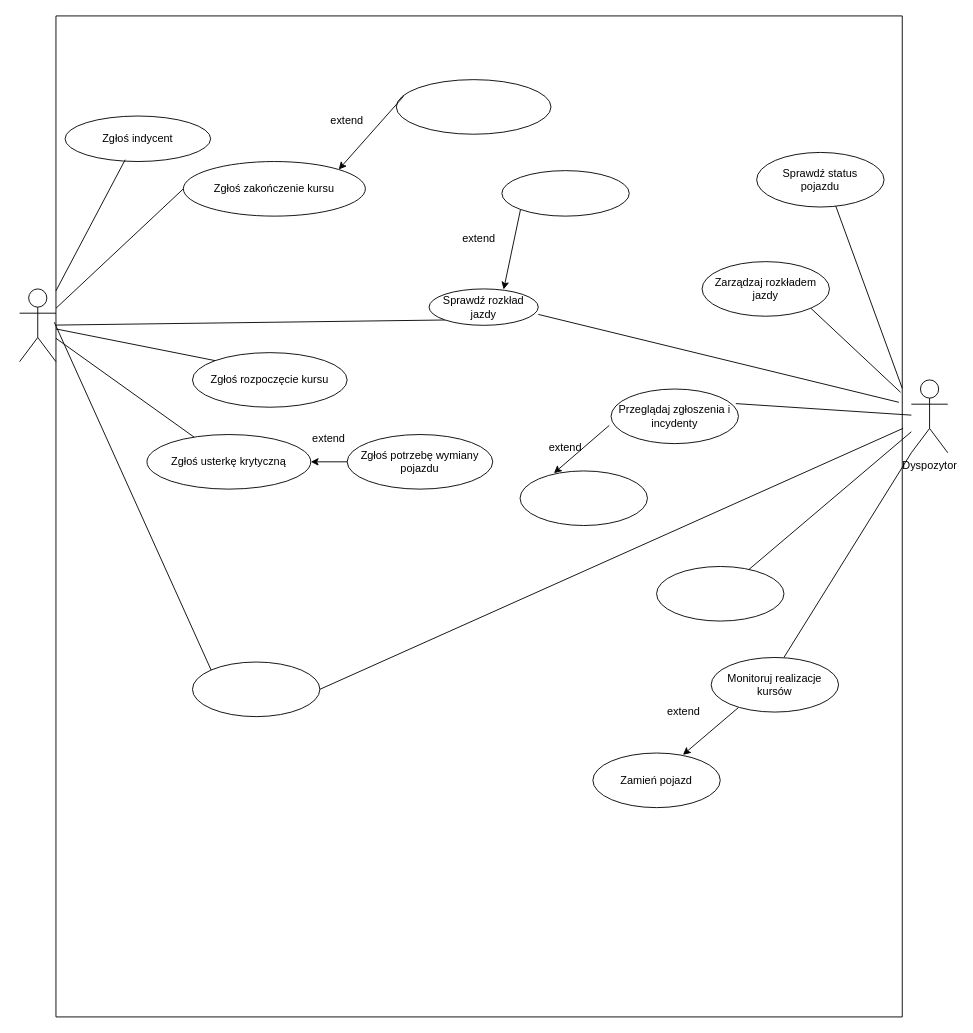
This 973x1033 diagram has some shape labels left out. Here are the shapes that lost their labels. From the top down, the centre of each, then its label:
pixel 473 106: Zgłoś usterkę pojazdu (niekrytyczną)
pixel 565 193: Sprawdź przypisany pojazd
pixel 37 325: Kierowca
pixel 583 498: Zleć naprawę
pixel 720 593: Zarządzaj flotą
pixel 256 689: Zaloguj się do systemu
